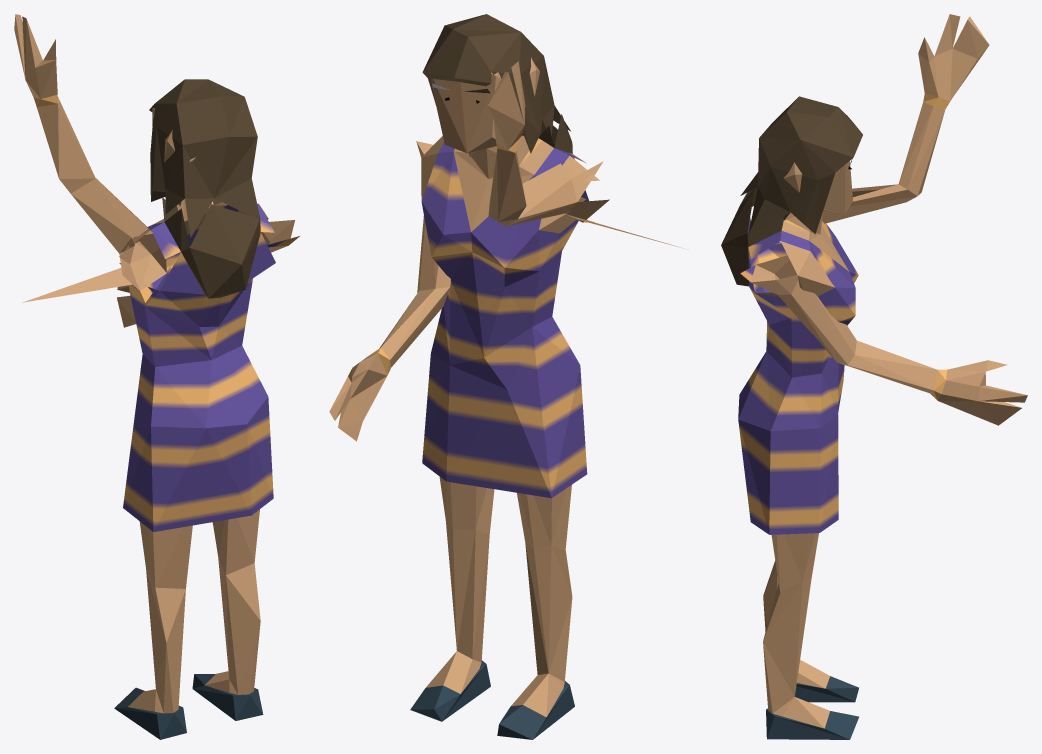
File: Cousin_Sway.obj
3 renders of one model, left to right at view 1: azimuth 30°, elevation 25°; view 2: azimuth 150°, elevation 25°; view 3: azimuth 270°, elevation 25°, orthographic. The views are drawn at different scales.
Visible parts, largest first — view 1: Cousin_Sway; view 2: Cousin_Sway; view 3: Cousin_Sway.
Boxes of the visible parts, x1,y1,x2,y2 form: Cousin_Sway: [14, 14, 299, 739]; Cousin_Sway: [329, 14, 686, 739]; Cousin_Sway: [721, 14, 1027, 739].
Bounding box in the file's own units: 0.8009 × 1.94 × 0.8214.
Materials: 1 (1 with a texture image).
